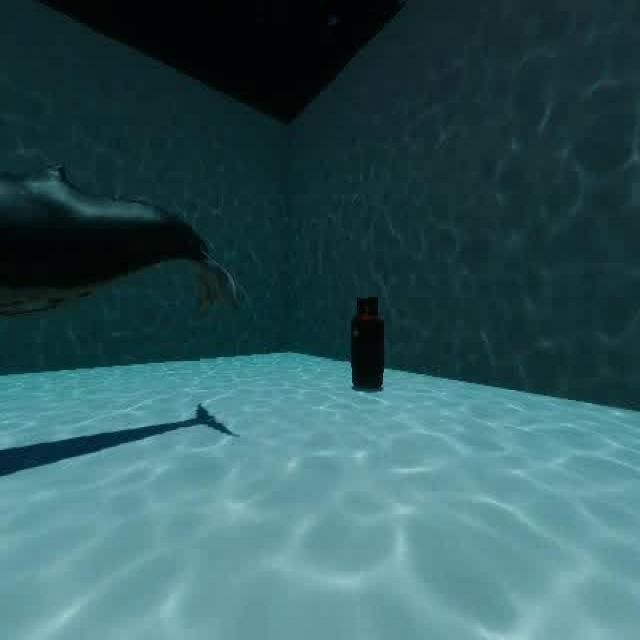Cylinder: (345, 290, 394, 399)
Whale: (0, 142, 248, 336)
